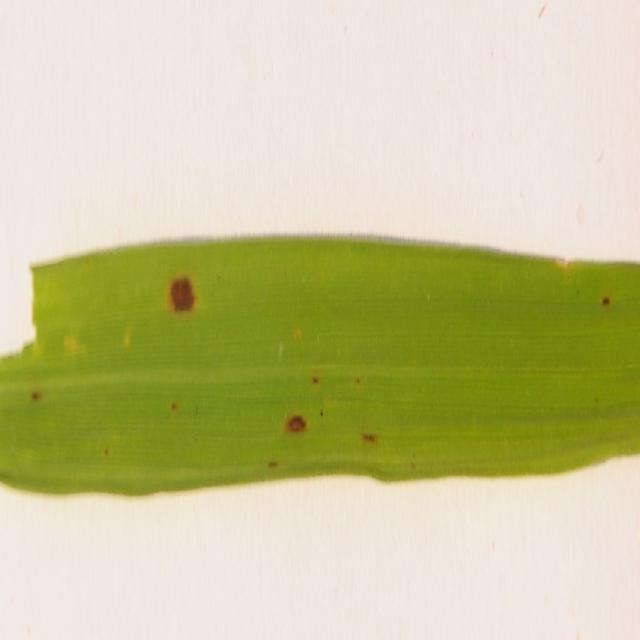brown spot: (163, 258, 203, 334), (280, 396, 310, 448), (356, 416, 380, 454), (307, 356, 325, 401), (599, 278, 613, 320)
